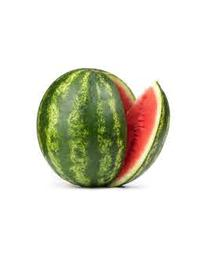watermelon: (36, 68, 172, 188)
